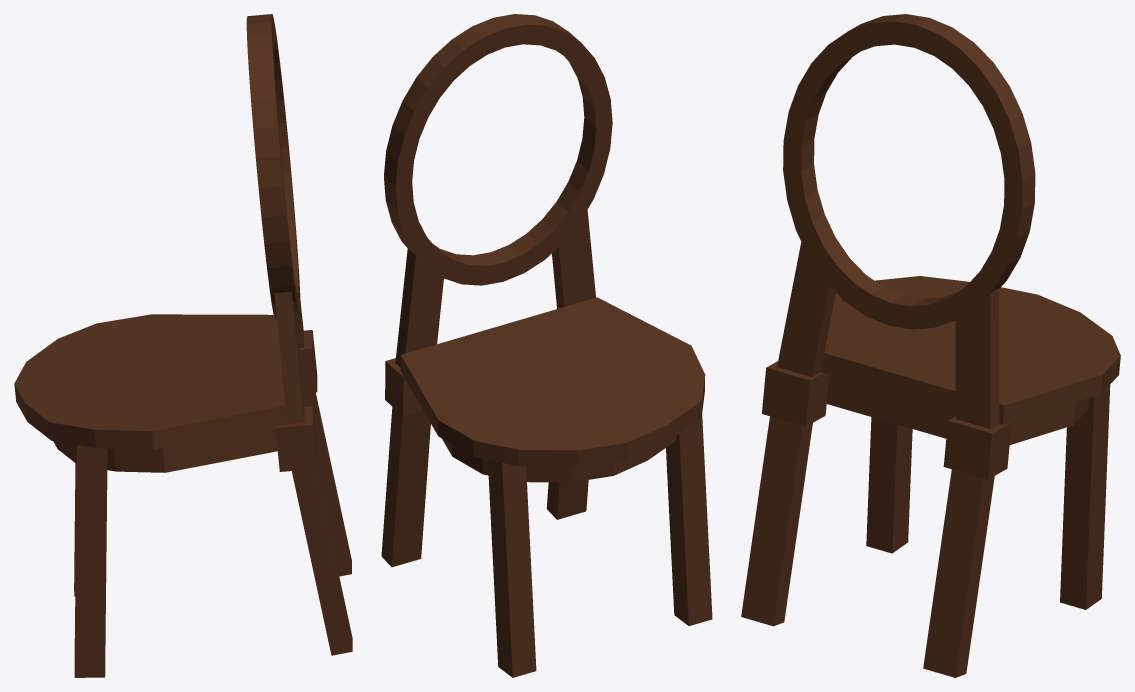
Rendered from Chair02.fbx.
The picture shows the model from 3 angles, left to right: view 1: azimuth 30°, elevation 25°; view 2: azimuth 150°, elevation 25°; view 3: azimuth 270°, elevation 25°; orthographic projection. The views are drawn at different scales.
Visible parts, largest first — view 1: Cube.019; view 2: Cube.019; view 3: Cube.019.
Part boxes in pixels (x1=…): Cube.019: x1=14, y1=14, x2=352, y2=677; Cube.019: x1=381, y1=14, x2=712, y2=677; Cube.019: x1=741, y1=14, x2=1120, y2=677.
Bounding box in the file's own units: 76.6 × 138 × 75.45.
